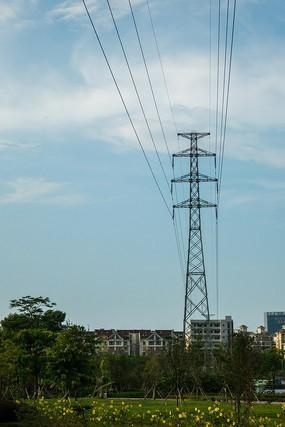power_tower: (166, 129, 225, 352)
